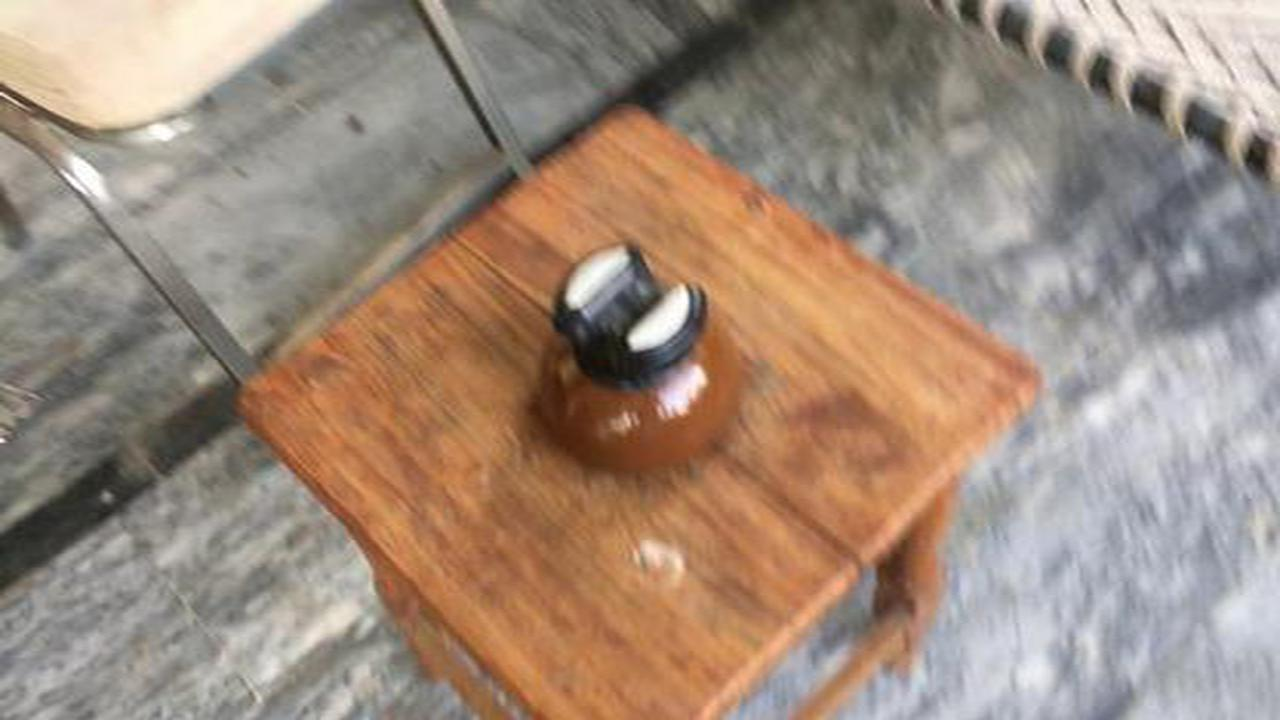insulator_pin: (502, 236, 773, 482)
